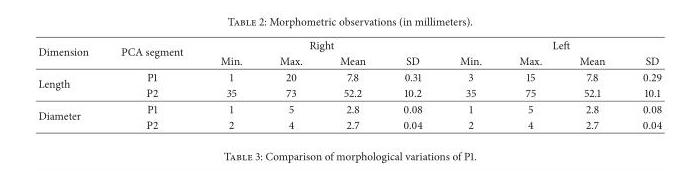table: (37, 37, 661, 131)
table column: (104, 37, 201, 131), (37, 37, 104, 131), (559, 37, 623, 131), (320, 37, 383, 131), (260, 37, 320, 131), (499, 37, 559, 131), (201, 37, 260, 131), (440, 37, 499, 131), (383, 37, 440, 131), (623, 37, 661, 131)
table column header: (37, 37, 661, 68)
table row: (37, 52, 661, 68), (37, 68, 661, 84), (37, 84, 661, 100), (37, 100, 661, 116), (37, 37, 661, 52), (37, 116, 661, 131)
table spanning cell: (201, 37, 440, 52), (440, 37, 661, 52), (104, 37, 201, 68), (37, 68, 104, 100), (37, 37, 104, 68), (37, 100, 104, 131)
